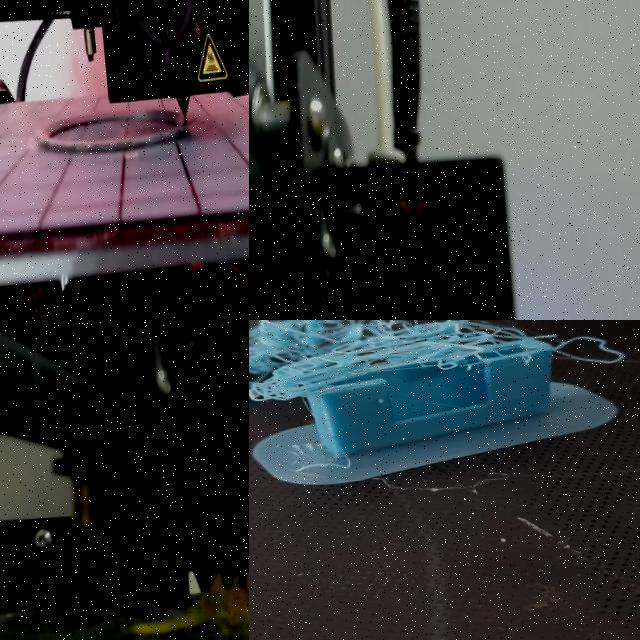spaghetti: (249, 320, 632, 401), (132, 571, 249, 637)
